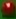brown: (0, 0, 16, 19)
